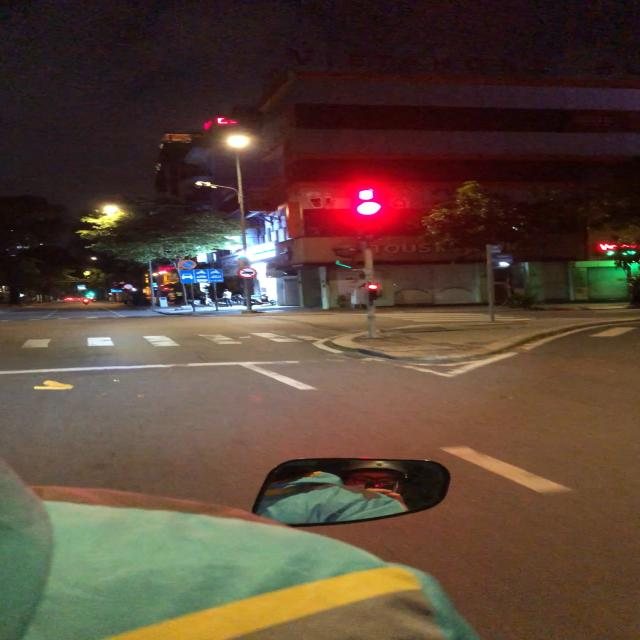Bien bao cam do xe: (178, 259, 199, 270)
Bien bao cam xe so-mi ro-mooc: (236, 266, 259, 279)
